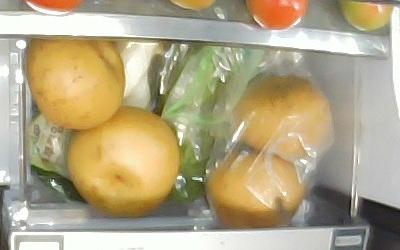pear: (67, 106, 180, 215), (26, 38, 125, 130)
pear_vinyl: (232, 73, 331, 158), (208, 153, 305, 229)
